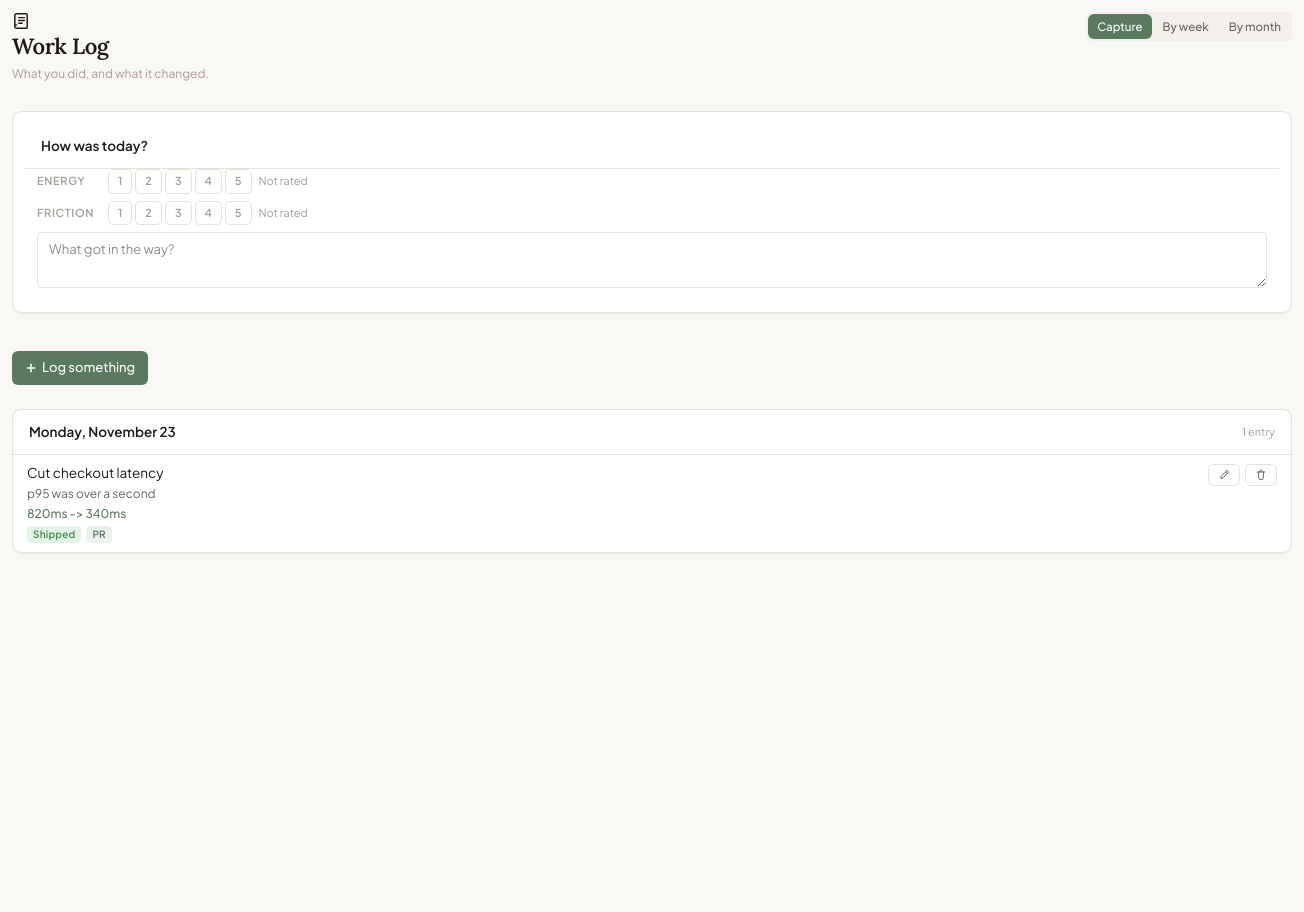
it: WorkLogView editing › closes the editor when the add form is opened, so only one is ever live
Click the button named "Edit entry" at (1224, 475), box 1208,464 -> 1240,486
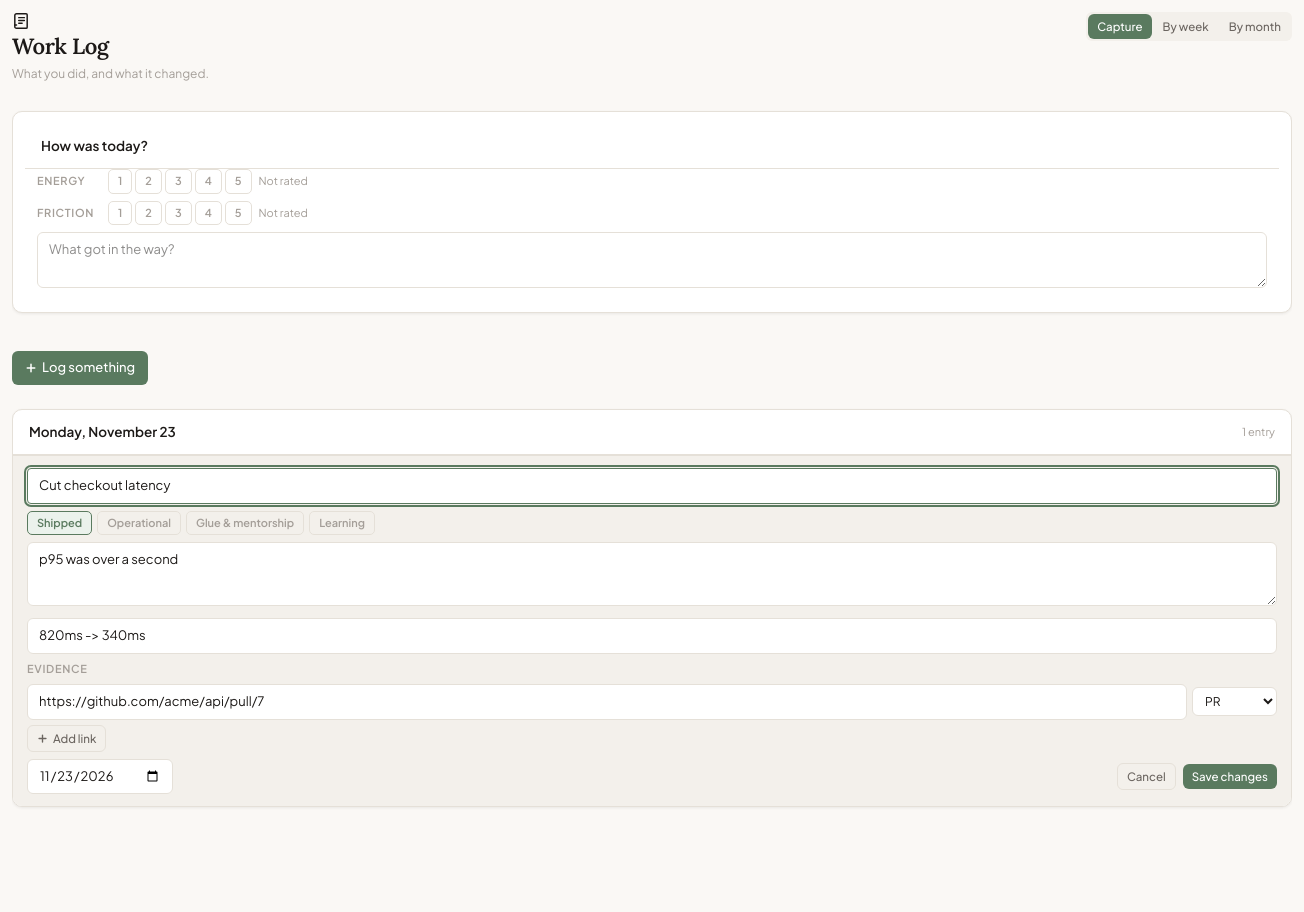
Expected: the button "Save changes" is shown, 1183,764 -> 1277,789
Click the button "Log something" at (80, 368), box 12,351 -> 148,385
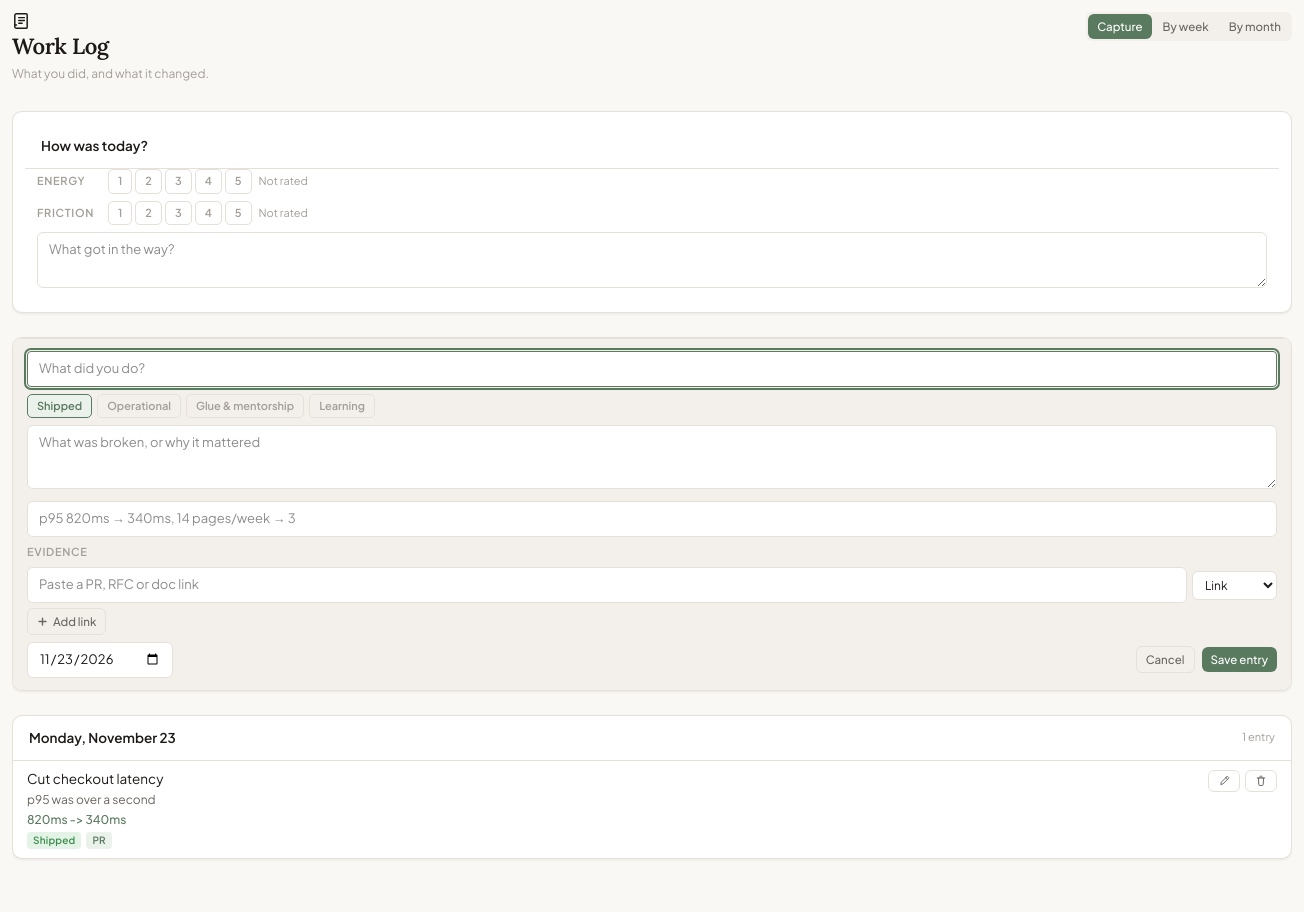
Expected: the button "Save changes" is gone
